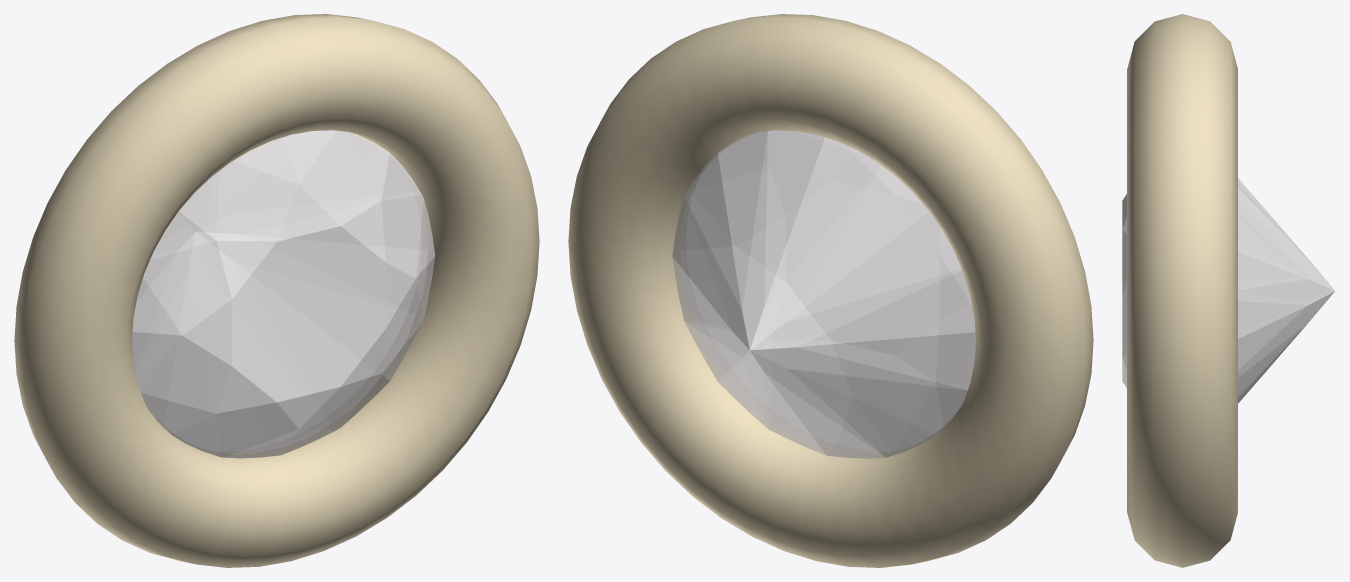
The model's file is Torus Gloss.glb.
3 views of the same model, side by side, from view 1: azimuth 30°, elevation 25°; view 2: azimuth 150°, elevation 25°; view 3: azimuth 270°, elevation 25° (orthographic). The views are drawn at different scales.
Visible parts, largest first — view 1: Torus.001, Diamond_Round_3_Material_2_0.001; view 2: Torus.001, Diamond_Round_3_Material_2_0.001; view 3: Torus.001, Diamond_Round_3_Material_2_0.001.
Part boxes in pixels (bbox=[...]): Torus.001: bbox=[14, 14, 539, 567]; Diamond_Round_3_Material_2_0.001: bbox=[132, 130, 435, 458]; Torus.001: bbox=[568, 14, 1093, 567]; Diamond_Round_3_Material_2_0.001: bbox=[672, 130, 975, 458]; Torus.001: bbox=[1127, 14, 1237, 567]; Diamond_Round_3_Material_2_0.001: bbox=[1122, 178, 1334, 403].
Size of the model in its own units: 1.24 by 1.24 by 0.4753.
